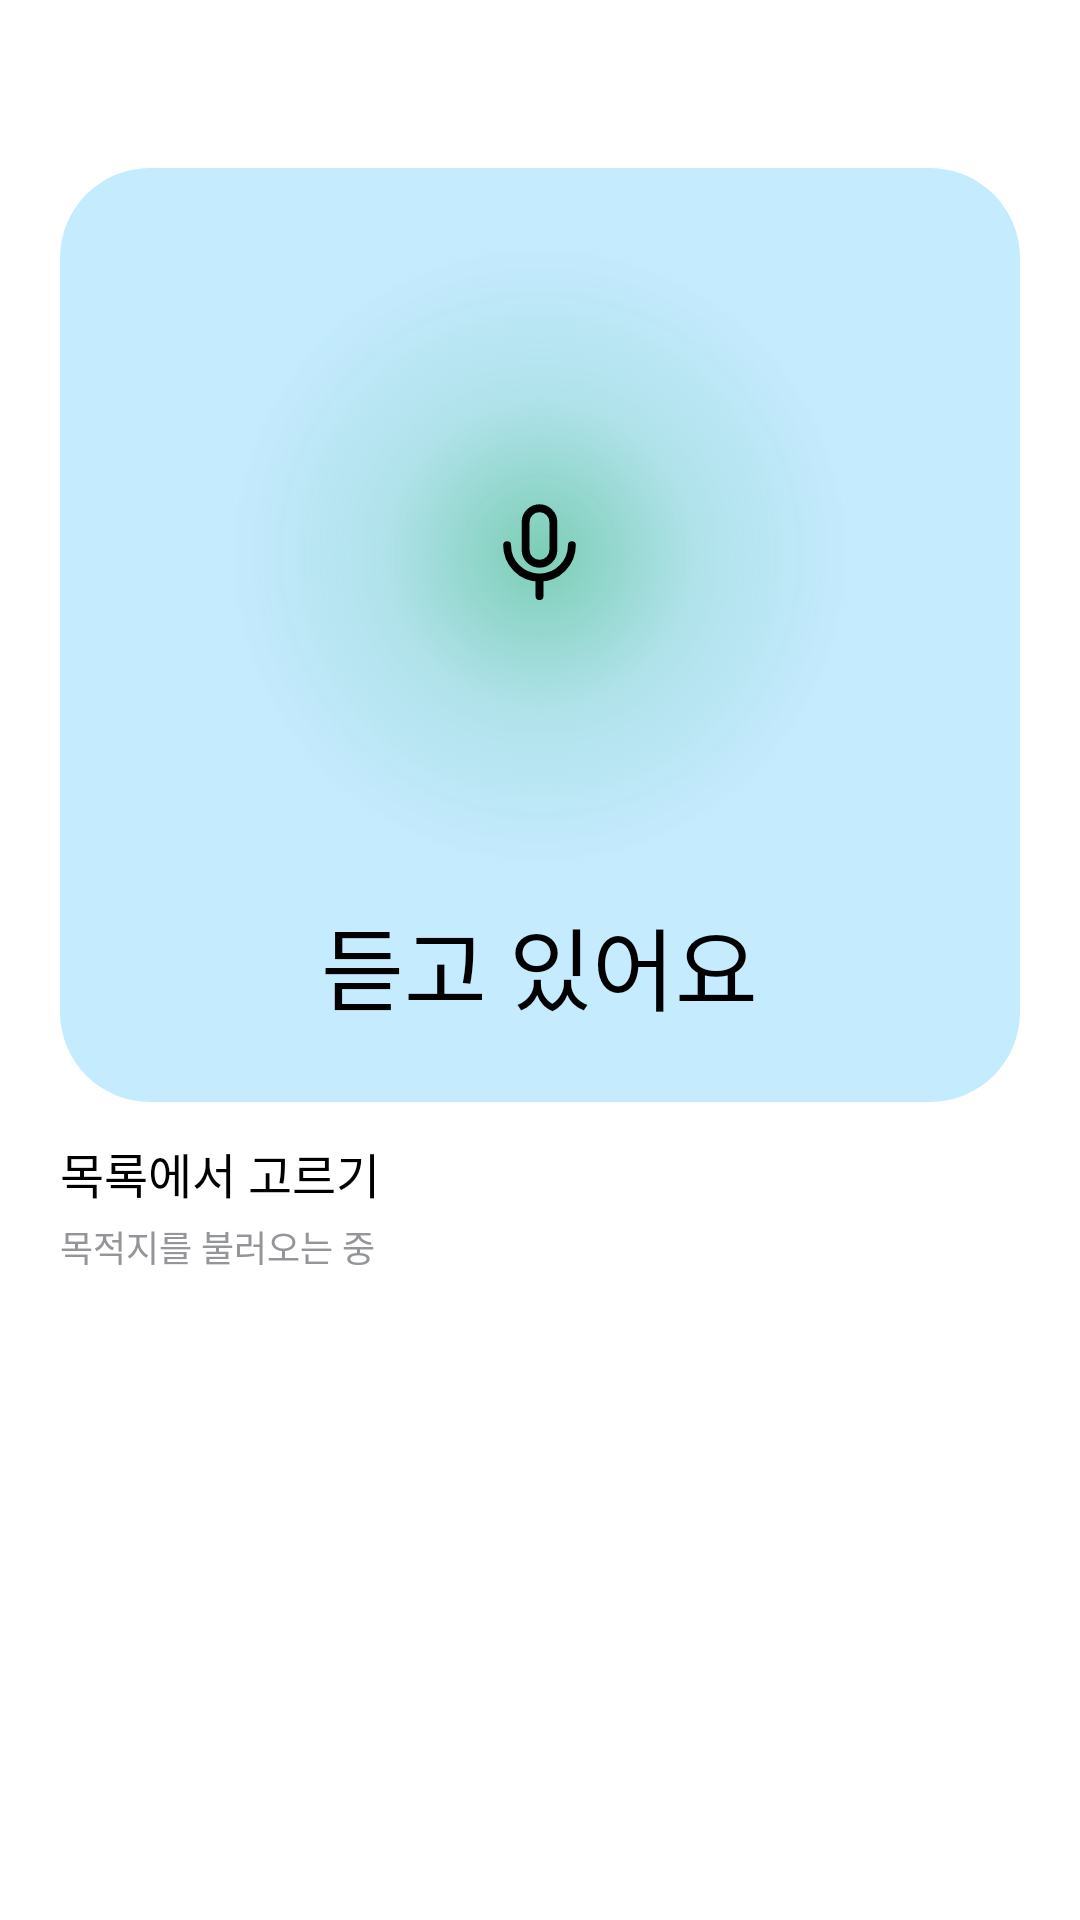

Where icons sit on this 1080x1920 app screen, as (x1, y1, x2, y2):
mic: (498, 504, 582, 600)
